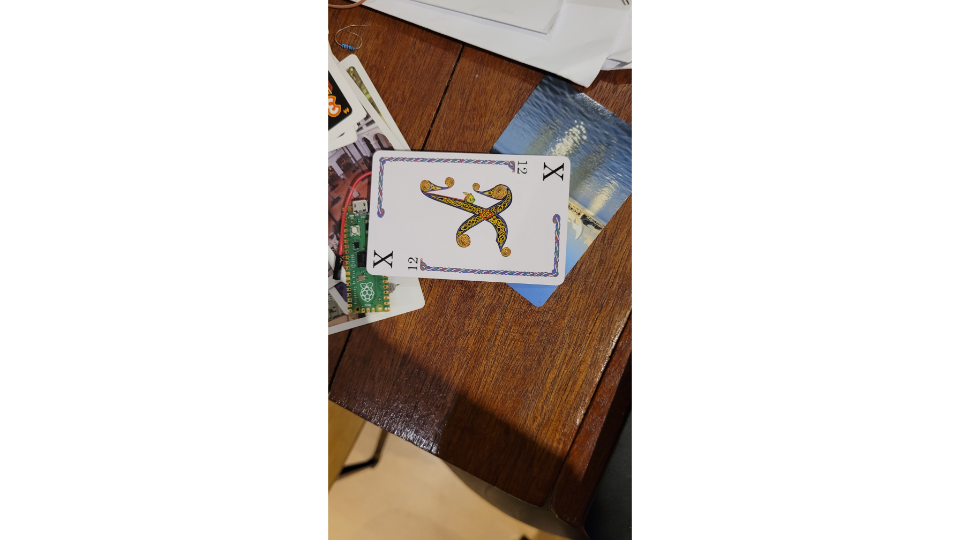X: (363, 147, 573, 287)
